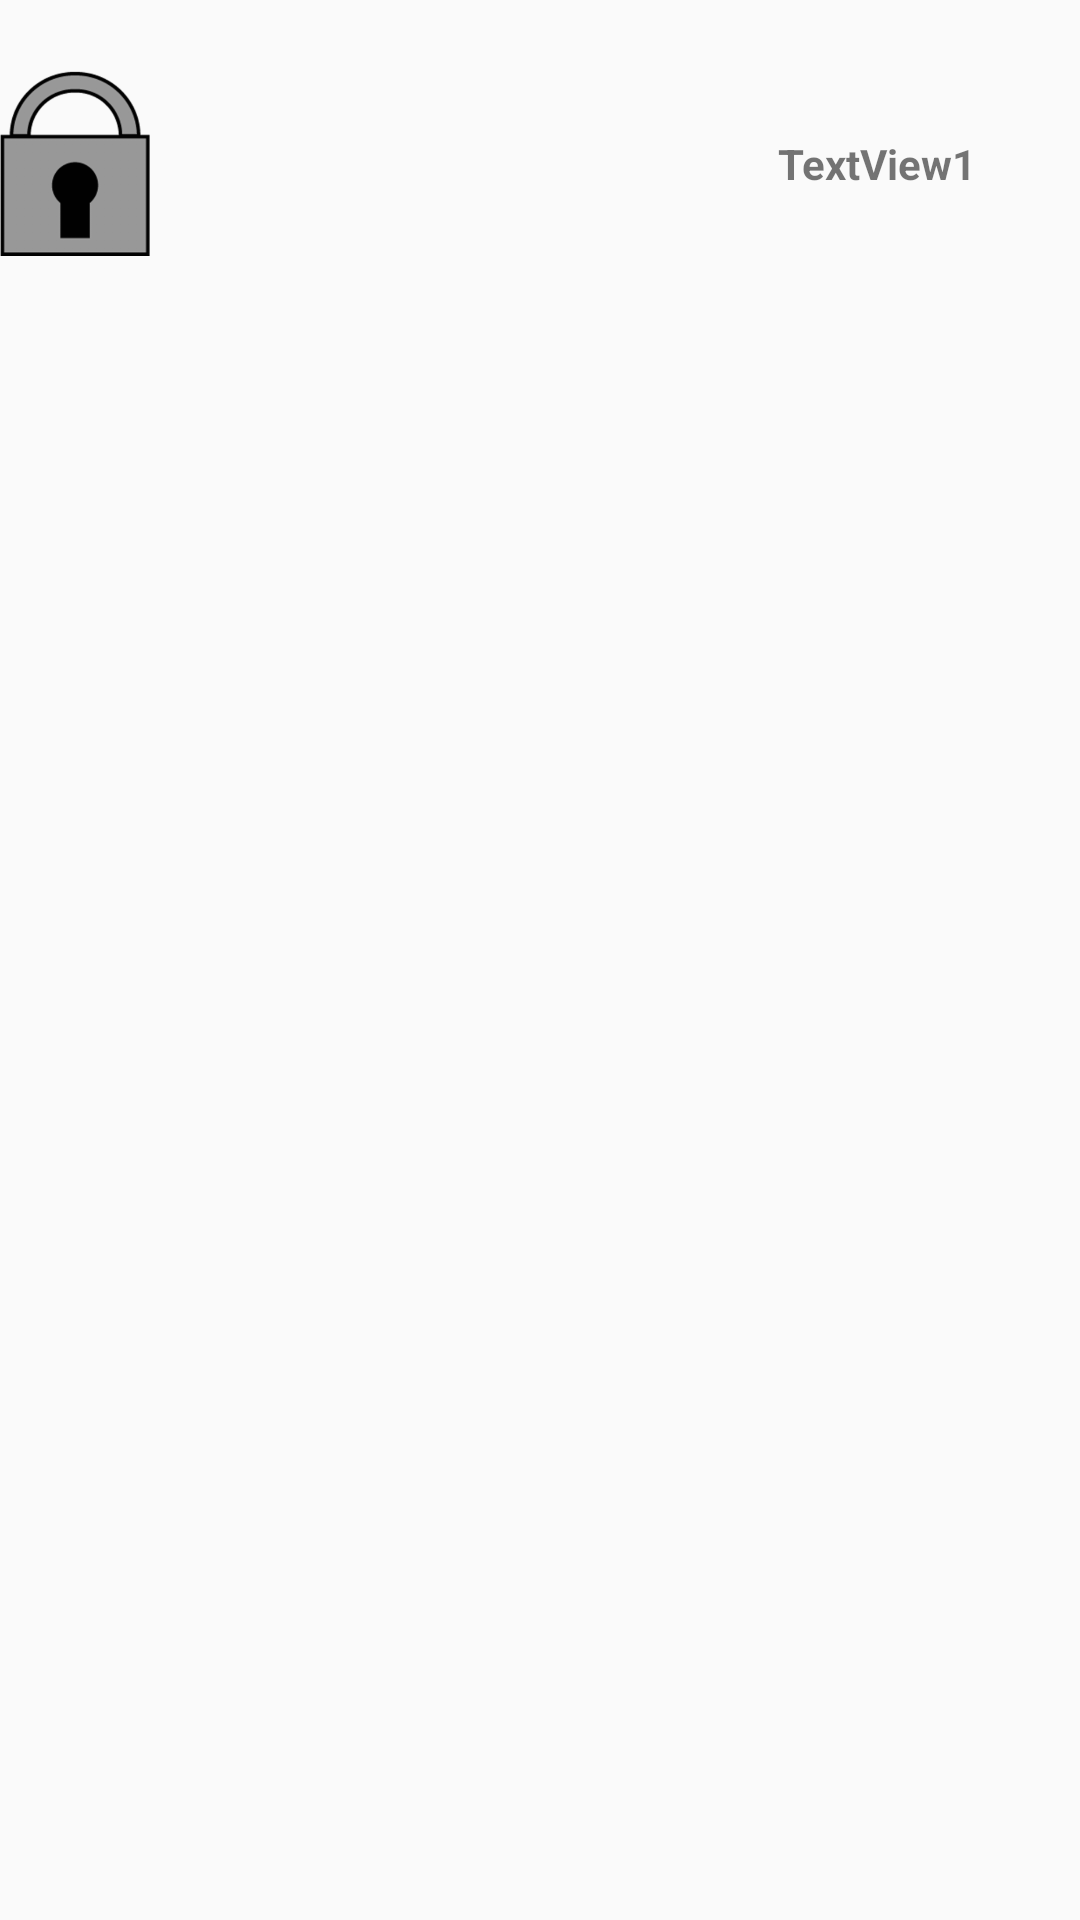

Where to tap for icons on this 1080x1920 app screen, as [x,y]:
lockv: [75,163]
